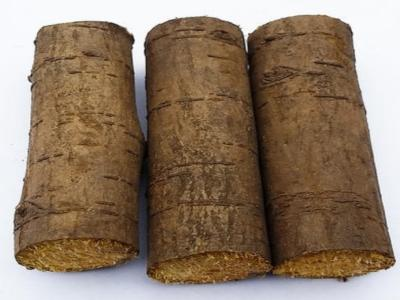Root: (14, 15, 394, 283)
